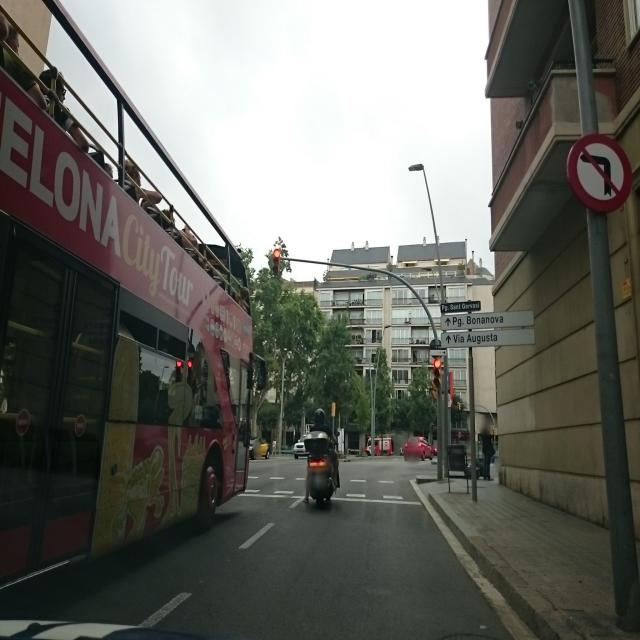bike: (304, 445, 342, 509)
car: (402, 437, 434, 461), (248, 436, 270, 460), (292, 438, 306, 459)
